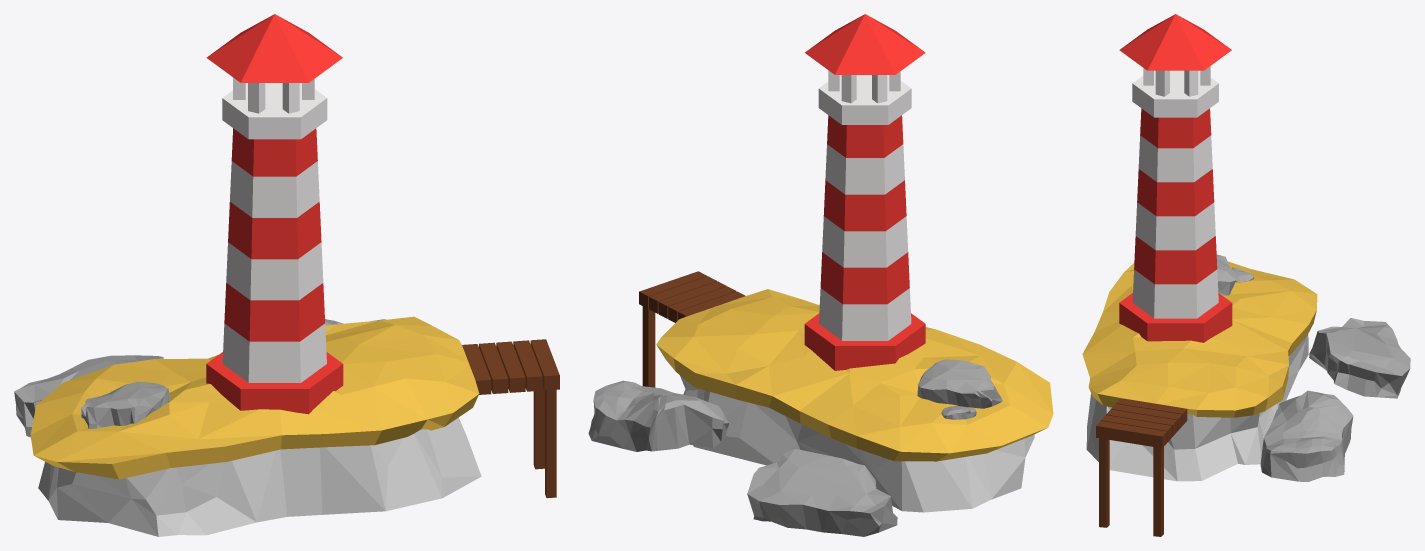
Rendered from lighthouse.fbx.
The picture shows the model from 3 angles, left to right: view 1: azimuth 30°, elevation 25°; view 2: azimuth 150°, elevation 25°; view 3: azimuth 270°, elevation 25°; orthographic projection. The views are drawn at different scales.
Parts seen in each view (by area): view 1: Circle, Grid.002, Grid.001, Cube, Grid.005, Grid.004, Cube.002, Cube.001; view 2: Grid.002, Circle, Grid.001, Grid.004, Grid.003, Grid.005, Cube, Cube.001; view 3: Circle, Grid.002, Grid.001, Grid.003, Grid.004, Cube, Cube.001, Cube.002, Grid.005.
Boxes of the visible parts, bbox=[...] form: Circle: bbox=[206, 14, 343, 414]; Grid.002: bbox=[30, 316, 479, 479]; Grid.001: bbox=[38, 417, 481, 536]; Cube: bbox=[462, 339, 559, 394]; Grid.005: bbox=[81, 381, 171, 428]; Grid.004: bbox=[14, 355, 163, 437]; Cube.002: bbox=[545, 389, 556, 498]; Cube.001: bbox=[533, 387, 544, 469]; Grid.002: bbox=[656, 289, 1053, 461]; Circle: bbox=[804, 14, 925, 370]; Grid.001: bbox=[680, 375, 1034, 512]; Grid.004: bbox=[747, 449, 897, 536]; Grid.003: bbox=[588, 380, 728, 451]; Grid.005: bbox=[917, 359, 1002, 408]; Cube: bbox=[639, 271, 745, 322]; Cube.001: bbox=[642, 306, 655, 387]; Circle: bbox=[1119, 14, 1232, 342]; Grid.002: bbox=[1082, 261, 1317, 417]; Grid.001: bbox=[1086, 334, 1308, 481]; Grid.003: bbox=[1260, 390, 1353, 481]; Grid.004: bbox=[1309, 318, 1410, 398]; Cube: bbox=[1096, 398, 1187, 448]; Cube.001: bbox=[1153, 447, 1163, 536]; Cube.002: bbox=[1099, 438, 1109, 527]; Grid.005: bbox=[1216, 254, 1236, 295].
Size of the model in its own units: 524 by 522 by 370.
